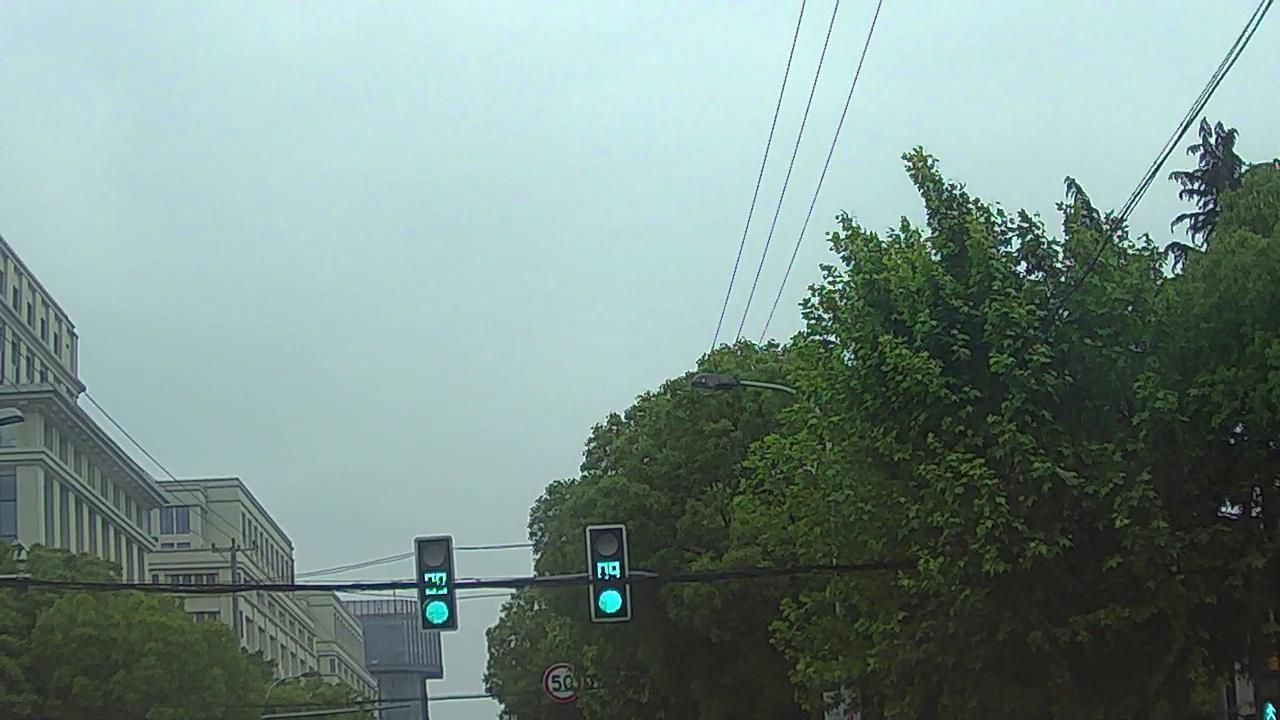traffic_light: (415, 540, 457, 631), (588, 531, 625, 626)
